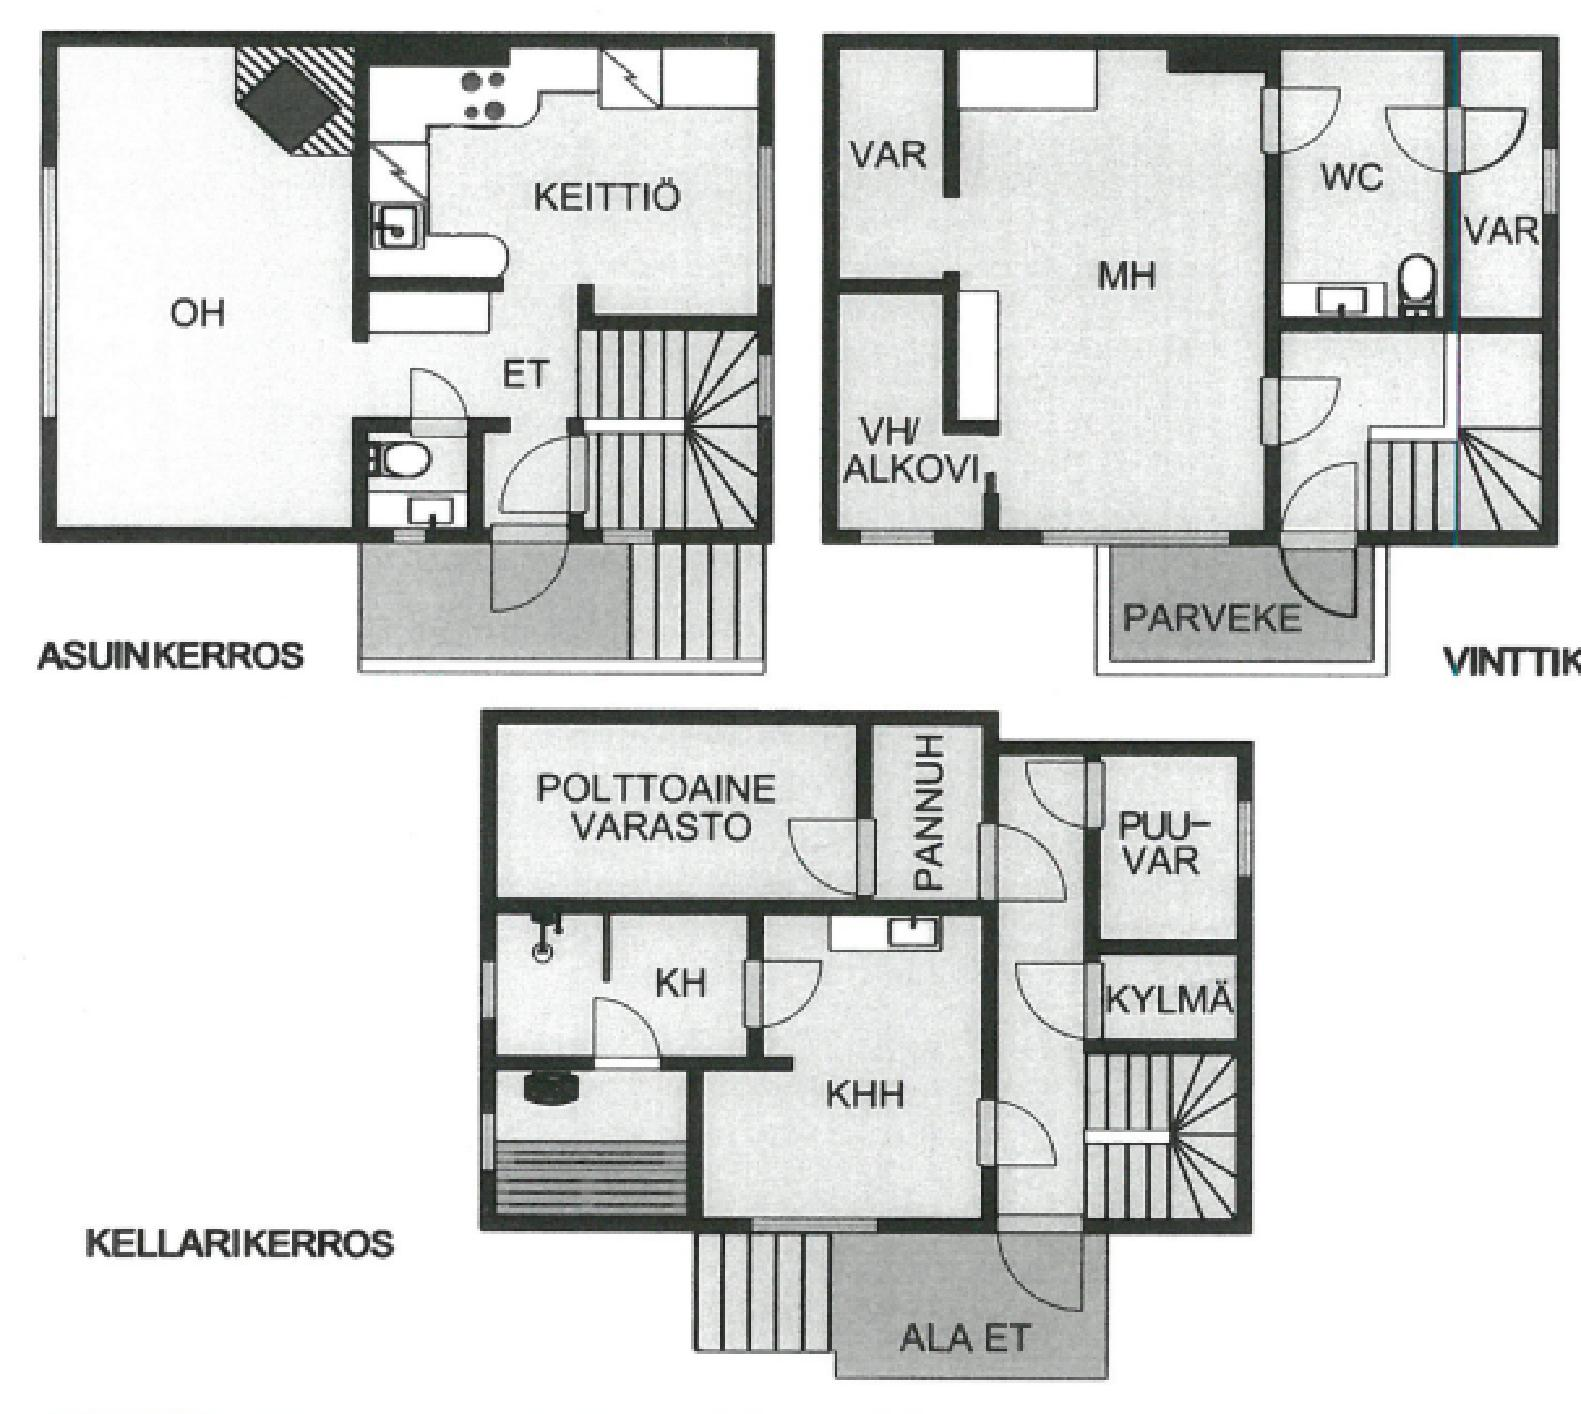door: (1287, 459, 1372, 620), (1369, 100, 1530, 183), (498, 435, 623, 531), (997, 1202, 1094, 1324), (965, 819, 1074, 914), (958, 1099, 1073, 1183), (781, 811, 878, 895), (1009, 958, 1103, 1044), (487, 531, 578, 616), (739, 955, 827, 1037), (1023, 762, 1122, 833), (1257, 81, 1352, 156), (1259, 375, 1343, 448), (397, 364, 466, 448)
window: (40, 161, 61, 424), (1044, 524, 1234, 551), (756, 149, 780, 287), (760, 1212, 872, 1237), (472, 1106, 498, 1181), (1231, 797, 1256, 875), (861, 525, 934, 551), (1541, 150, 1556, 216), (478, 965, 497, 1014), (756, 353, 771, 408), (395, 528, 431, 545), (606, 530, 649, 543)
zone: (56, 44, 748, 528), (838, 46, 1268, 531), (689, 923, 976, 1213), (496, 727, 866, 891), (1282, 325, 1535, 531), (365, 539, 766, 661), (1285, 52, 1444, 311), (998, 753, 1084, 1212), (498, 909, 747, 1059), (829, 1239, 1106, 1368), (1110, 549, 1376, 659), (498, 1065, 689, 1212), (1454, 53, 1544, 325), (1107, 753, 1231, 943), (1084, 1059, 1231, 1208), (875, 727, 978, 895), (1100, 965, 1238, 1033)
